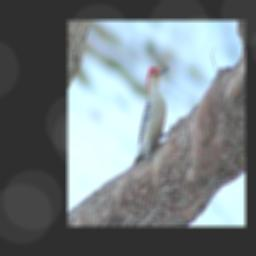Woodpecker: (132, 64, 170, 167)
